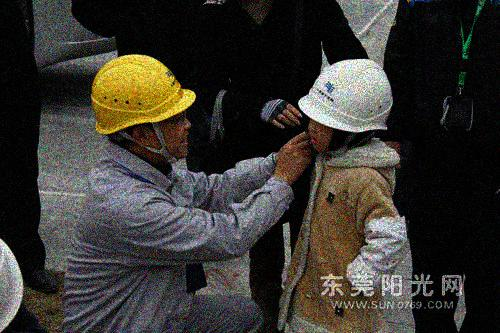helmet: (89, 52, 197, 162), (297, 56, 395, 152)
